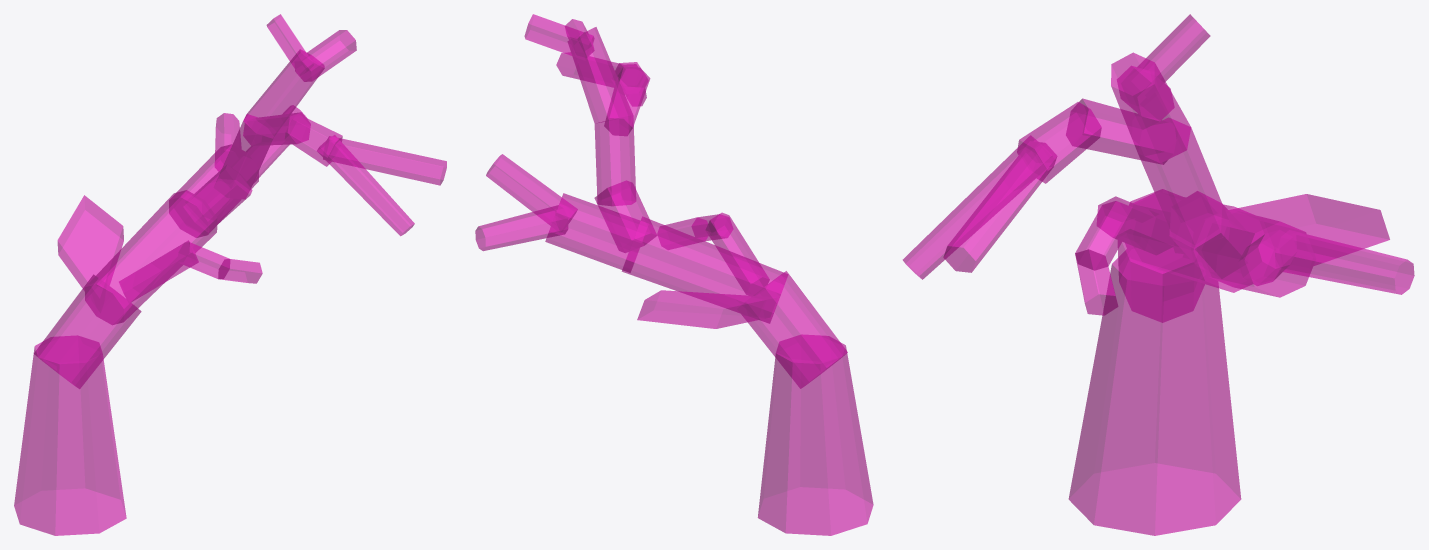
Rendered from SM_Env_Tree_Dead_02_Collision.fbx.
The picture shows the model from 3 angles, left to right: view 1: azimuth 30°, elevation 25°; view 2: azimuth 150°, elevation 25°; view 3: azimuth 270°, elevation 25°; orthographic projection. The views are drawn at different scales.
Visible parts, largest first — view 1: SM_Env_Tree_Dead_02_Collision; view 2: SM_Env_Tree_Dead_02_Collision; view 3: SM_Env_Tree_Dead_02_Collision.
Boxes of the visible parts, x1,y1,x2,y2 form: SM_Env_Tree_Dead_02_Collision: (14, 14, 446, 535); SM_Env_Tree_Dead_02_Collision: (475, 14, 873, 535); SM_Env_Tree_Dead_02_Collision: (903, 14, 1414, 535).
Size of the model in its own units: 697 by 796 by 575.
